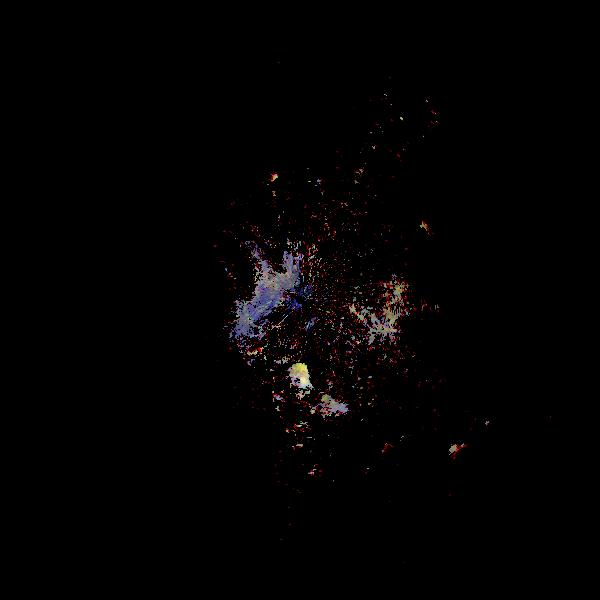roost: (283, 357, 316, 390), (417, 215, 447, 245), (264, 171, 282, 189)
